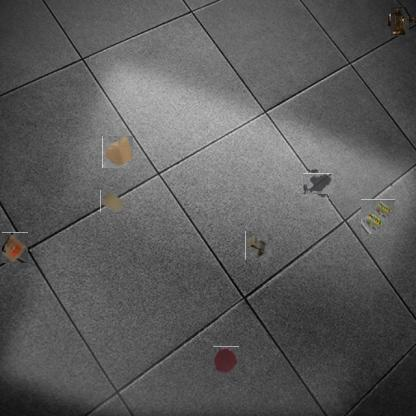dirty: (361, 199, 396, 234), (102, 136, 133, 168), (2, 232, 28, 263), (244, 232, 270, 259), (388, 9, 412, 33), (100, 190, 125, 212)
liquid: (213, 346, 239, 373), (306, 171, 331, 197)
